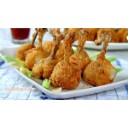chicken_lollipop: (26, 28, 62, 78), (91, 29, 120, 84), (66, 27, 91, 74), (57, 44, 80, 90)
